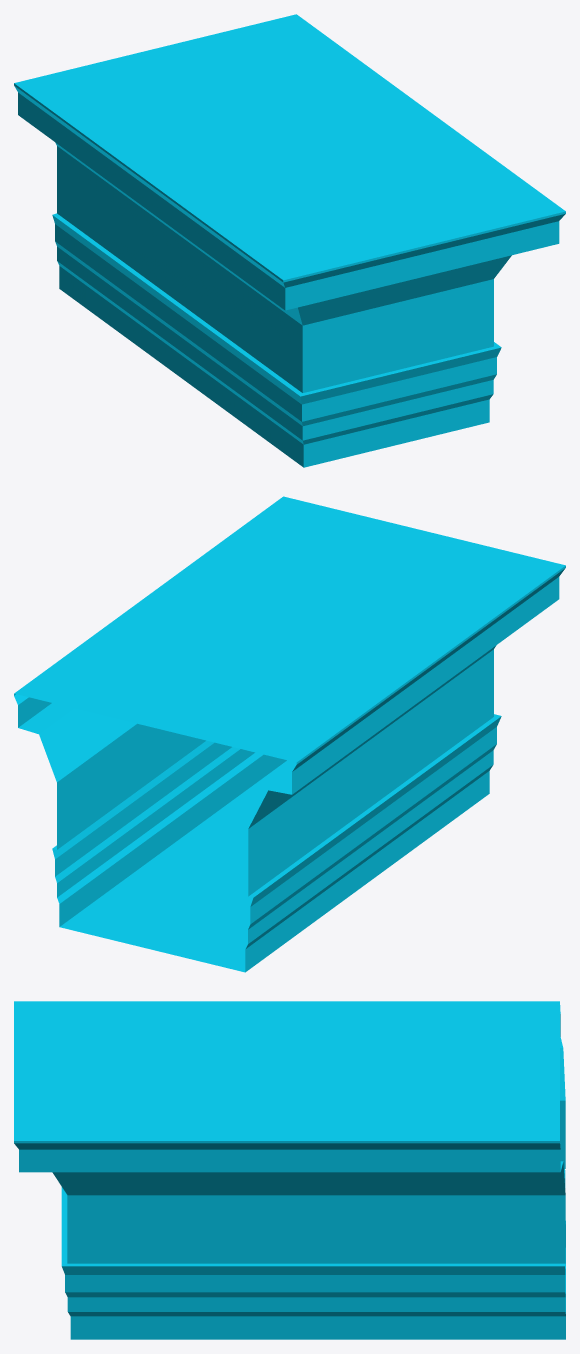
Rendered from Ceiling_CX.FBX.
3 views of the same model, one above another, from view 1: azimuth 30°, elevation 25°; view 2: azimuth 150°, elevation 25°; view 3: azimuth 270°, elevation 25° (orthographic).
Parts seen in each view (by area): view 1: Box097; view 2: Box097; view 3: Box097.
Part boxes in pixels (<box>): Box097: <box>14,14,565,467</box>; Box097: <box>14,496,565,972</box>; Box097: <box>14,1001,565,1339</box>.
Size of the model in its own units: 763 by 566 by 1273.
